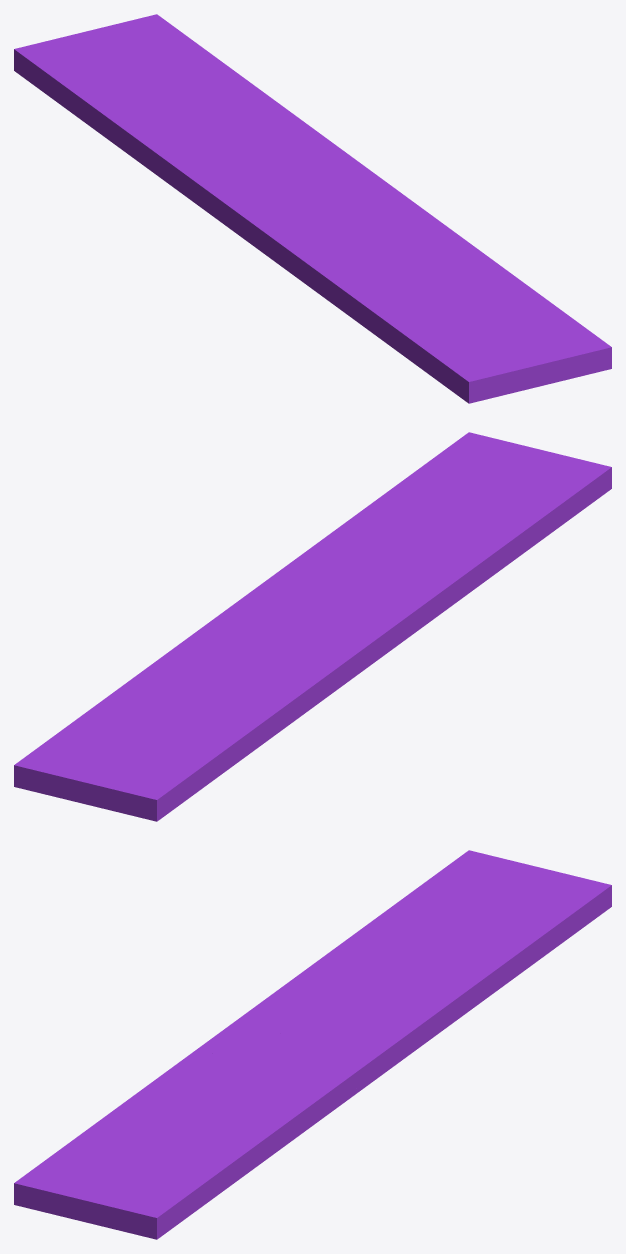
The model's file is StairsStep_216_chunks.fbx.
3 views of the same model, one above another, from view 1: azimuth 30°, elevation 25°; view 2: azimuth 150°, elevation 25°; view 3: azimuth 330°, elevation 25° (orthographic).
Parts seen in each view (by area): view 1: StairsStep_216_12, StairsStep_216_7, StairsStep_216_0, StairsStep_216_1, StairsStep_216_9, StairsStep_216_4, StairsStep_216_10, StairsStep_216_11, StairsStep_216_8, StairsStep_216_5, StairsStep_216_3; view 2: StairsStep_216_12, StairsStep_216_7, StairsStep_216_0, StairsStep_216_1, StairsStep_216_9, StairsStep_216_4, StairsStep_216_10, StairsStep_216_11, StairsStep_216_8, StairsStep_216_5, StairsStep_216_3; view 3: StairsStep_216_12, StairsStep_216_7, StairsStep_216_0, StairsStep_216_10, StairsStep_216_9, StairsStep_216_11, StairsStep_216_1, StairsStep_216_8, StairsStep_216_4, StairsStep_216_5, StairsStep_216_3.
Part boxes in pixels (x1,y1,x2,y2): StairsStep_216_12: (14,14,263,146); StairsStep_216_7: (422,273,611,403); StairsStep_216_0: (306,169,516,277); StairsStep_216_1: (287,237,438,359); StairsStep_216_9: (107,117,243,208); StairsStep_216_4: (200,185,316,266); StairsStep_216_10: (237,144,368,196); StairsStep_216_11: (224,93,349,155); StairsStep_216_8: (355,244,492,285); StairsStep_216_5: (375,271,432,371); StairsStep_216_3: (282,194,351,240); StairsStep_216_12: (14,683,261,821); StairsStep_216_7: (374,432,611,528); StairsStep_216_0: (226,502,385,619); StairsStep_216_1: (381,489,581,619); StairsStep_216_9: (217,648,345,744); StairsStep_216_4: (320,594,432,683); StairsStep_216_10: (207,610,332,668); StairsStep_216_11: (121,623,235,686); StairsStep_216_8: (376,512,432,577); StairsStep_216_5: (431,507,568,556); StairsStep_216_3: (313,581,391,629); StairsStep_216_12: (376,850,611,994); StairsStep_216_7: (14,1122,262,1239); StairsStep_216_0: (240,1030,399,1148); StairsStep_216_10: (293,981,442,1067); StairsStep_216_9: (283,918,408,1001); StairsStep_216_11: (390,963,504,1030); StairsStep_216_1: (45,1051,244,1160); StairsStep_216_8: (193,1068,391,1154); StairsStep_216_4: (194,986,305,1055); StairsStep_216_5: (85,1093,194,1142); StairsStep_216_3: (234,1021,312,1069).
Size of the model in its own units: 200 by 28.98 by 1102.
